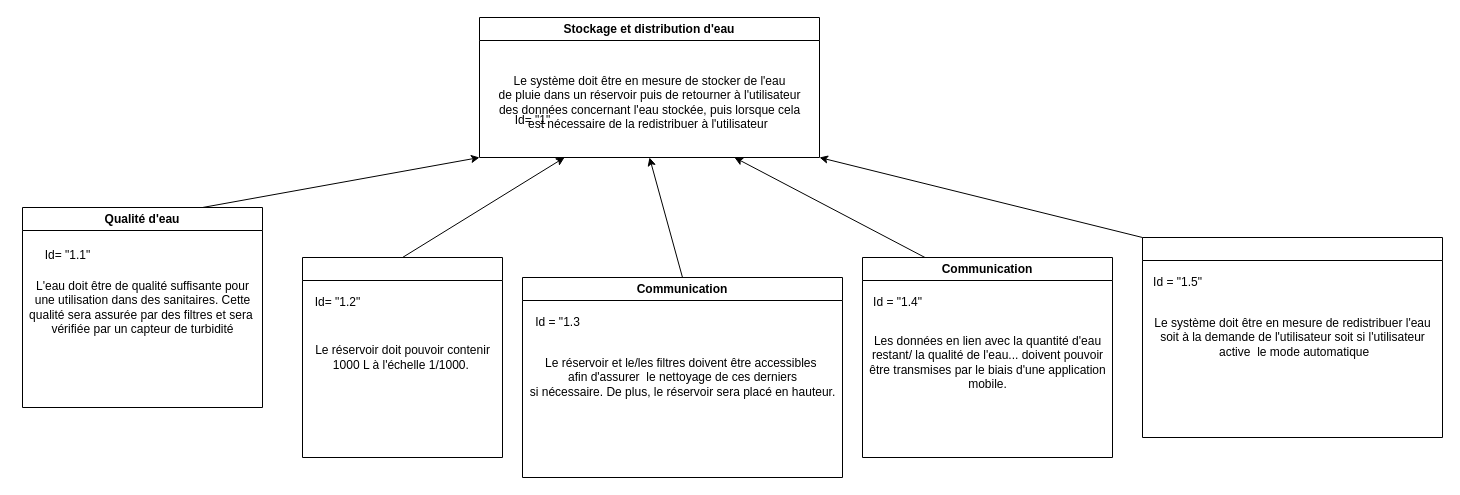
Image size: 1460x495. Some labels were removed from this diagram. Each missing label, with the box of its shape:
Contenance: (302, 256, 502, 458)
Distribution: (1142, 236, 1442, 438)
